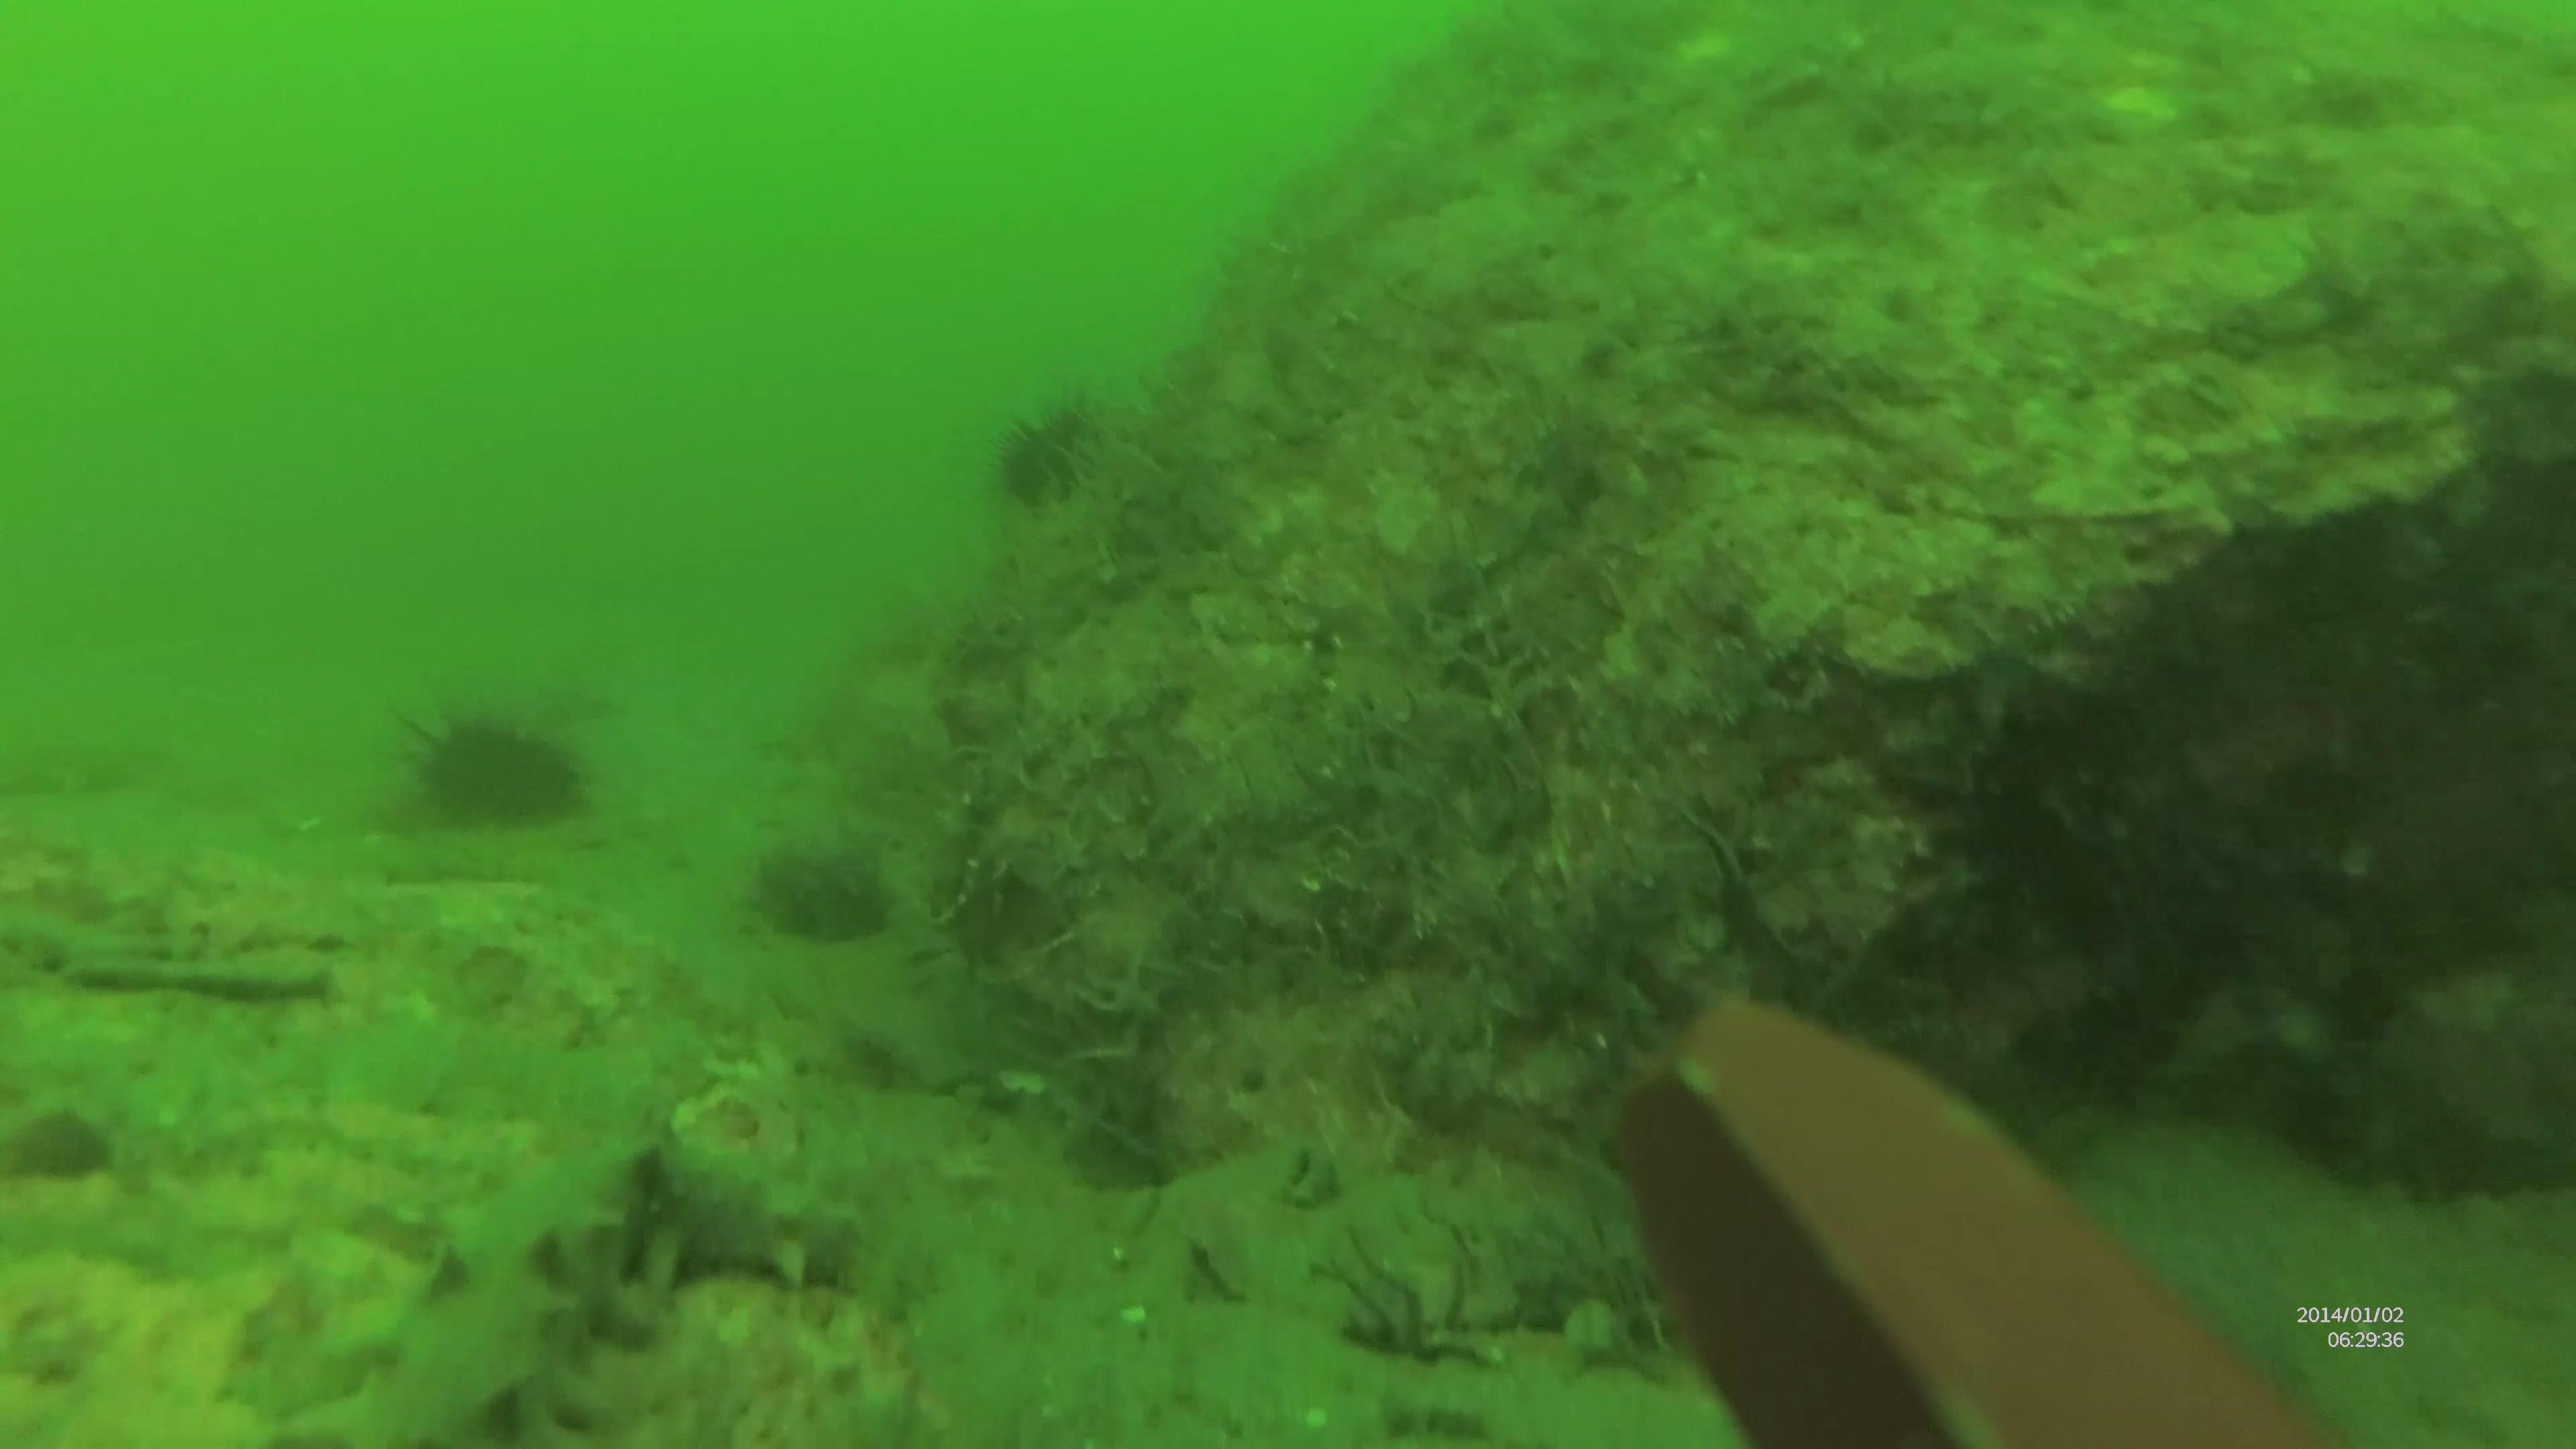echinus: (400, 708, 584, 828), (763, 835, 893, 945), (993, 396, 1116, 506)
holothurian: (288, 1155, 651, 1449), (612, 1123, 874, 1302)
